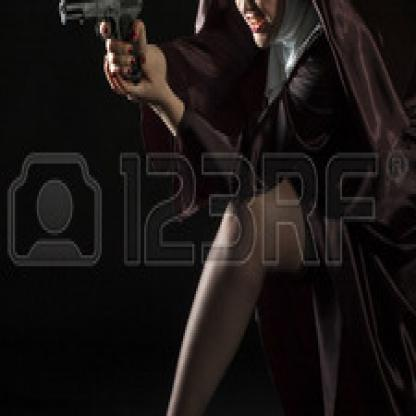gun: (46, 0, 152, 106)
